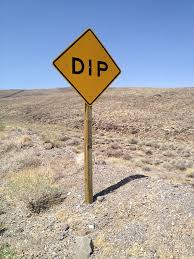dip: (51, 26, 123, 106)
